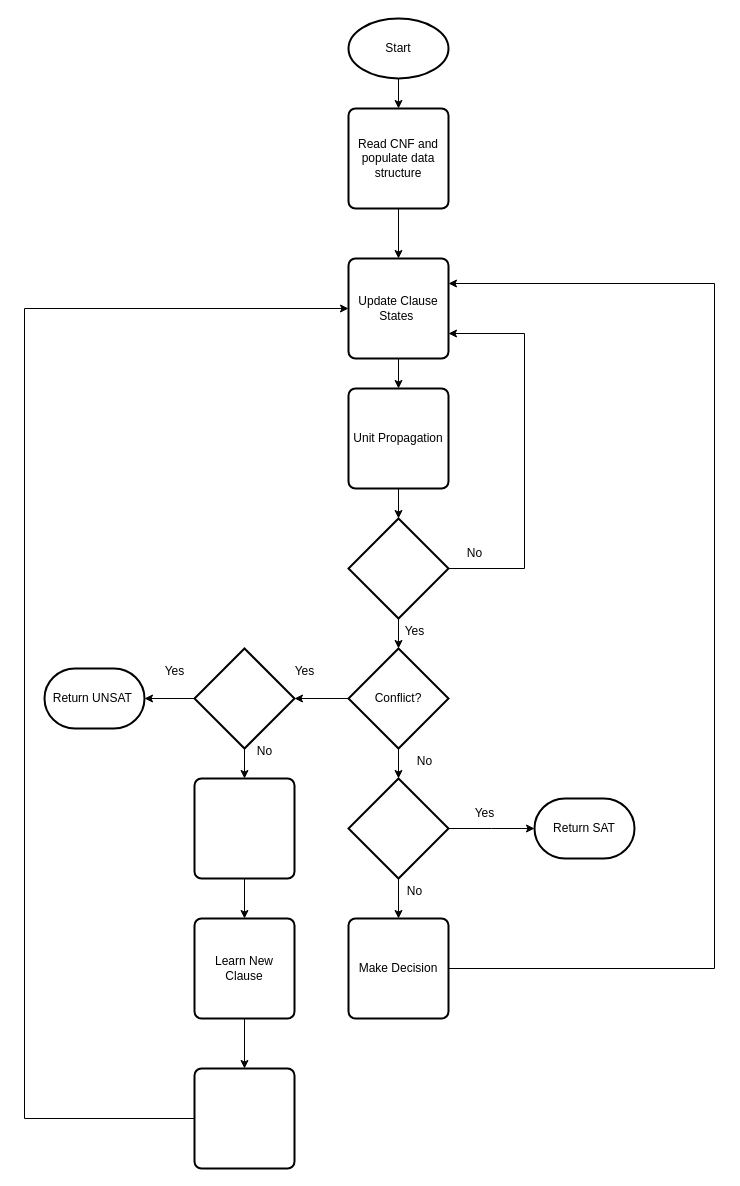
Some shapes in this 740 by 1186 pixel diagram are drawn without their labels. The shapes that lost their labels are listed below. From the top down, each one's centre as x and y in pixels, then its label:
(x=398, y=568): No further propagation?
(x=244, y=698): Decision Level 0?
(x=244, y=828): Analyse Conflict
(x=398, y=828): All Clauses Satisfied?
(x=244, y=1118): Backjump
